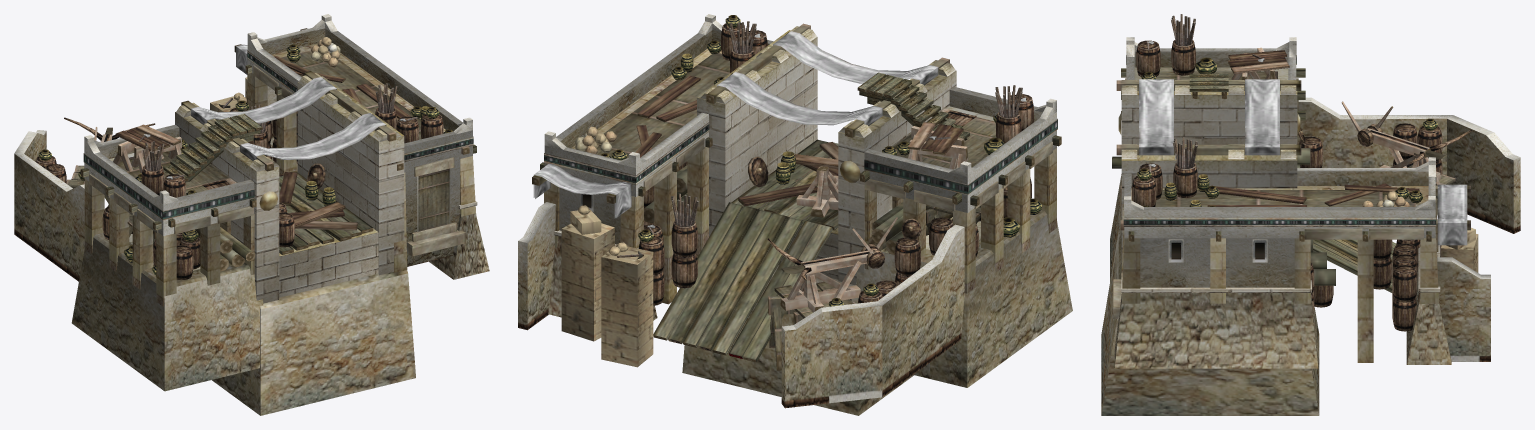
Rendered from s_carthaginians_workshop.glb.
3 renders of one model, left to right at view 1: azimuth 30°, elevation 25°; view 2: azimuth 150°, elevation 25°; view 3: azimuth 270°, elevation 25°, orthographic. The views are drawn at different scales.
Parts seen in each view (by area): view 1: s_carthaginians_workshop_part0; view 2: s_carthaginians_workshop_part0; view 3: s_carthaginians_workshop_part0.
Part boxes in pixels (left/top/right/bottom): s_carthaginians_workshop_part0: left=14, top=14, right=489, bottom=415; s_carthaginians_workshop_part0: left=518, top=14, right=1072, bottom=415; s_carthaginians_workshop_part0: left=1101, top=14, right=1520, bottom=415.
Bounding box in the file's own units: 4.85 × 3.67 × 5.
Materials: 1 (1 with a texture image).
